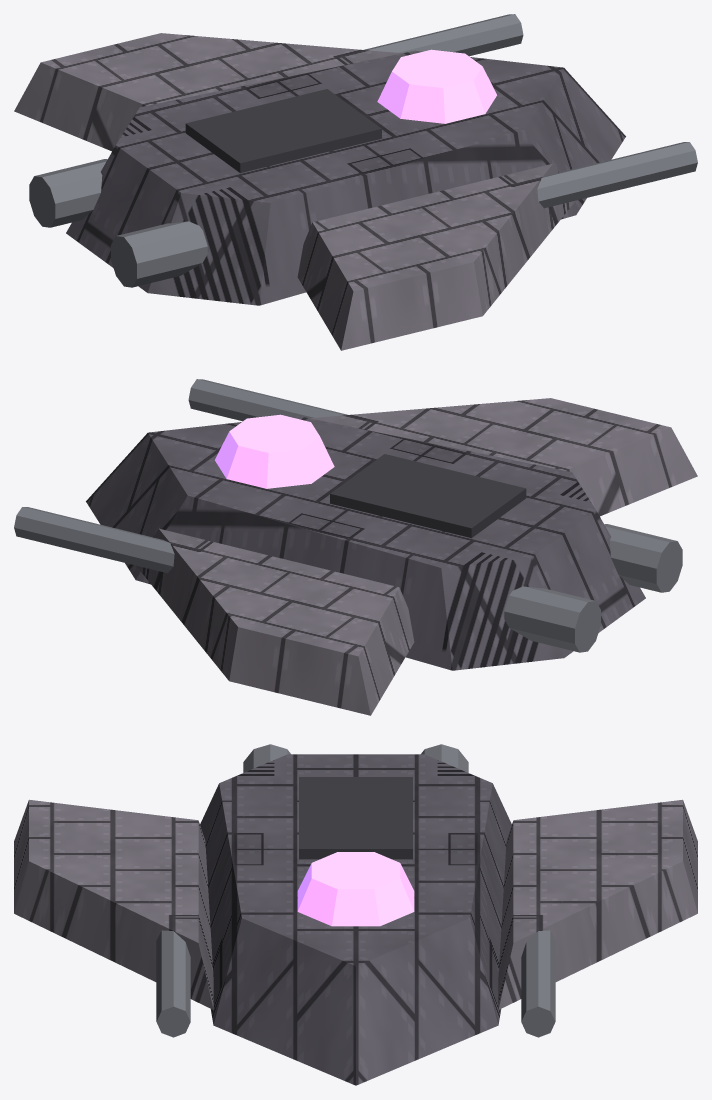
Rendered from gunship_iris.glb.
3 views of the same model, one above another, from view 1: azimuth 30°, elevation 25°; view 2: azimuth 150°, elevation 25°; view 3: azimuth 270°, elevation 25° (orthographic). The views are drawn at different scales.
Bounding box in the file's own units: 23 × 4.6 × 24.
Materials: 6 (2 with a texture image).
